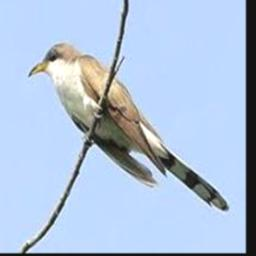Cuckoo: (29, 43, 229, 211)
